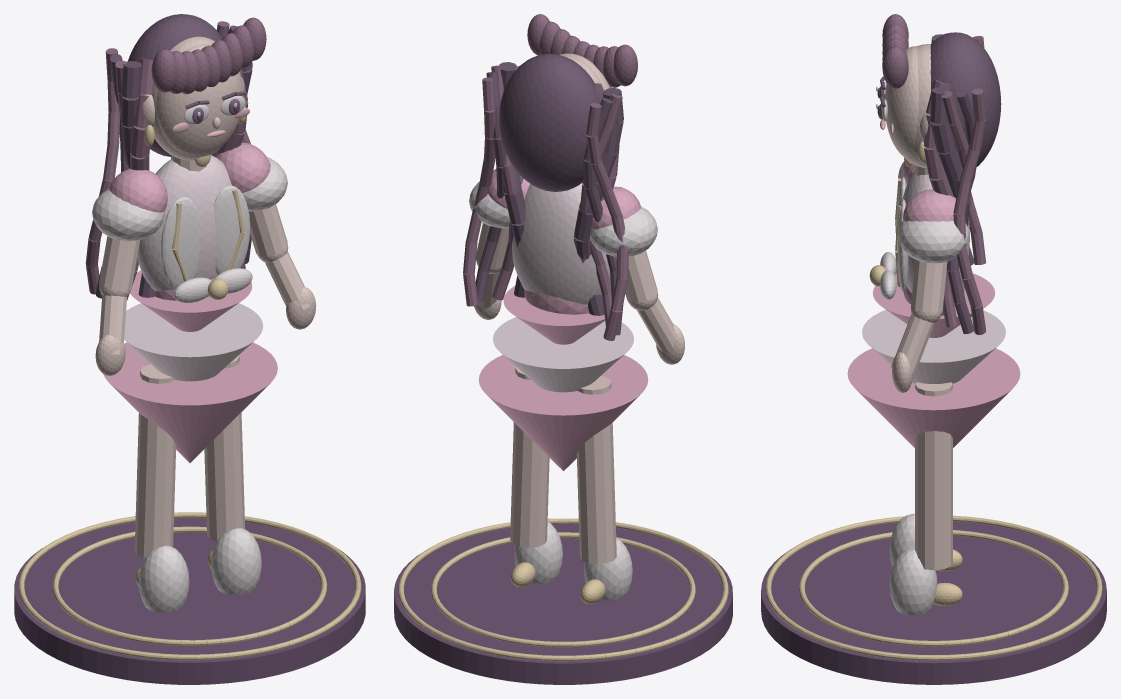
Rendered from songqi_anime_3d 2.glb.
The picture shows the model from 3 angles, left to right: view 1: azimuth 30°, elevation 25°; view 2: azimuth 150°, elevation 25°; view 3: azimuth 270°, elevation 25°; orthographic projection. The views are drawn at different scales.
Visible parts, largest first — view 1: stage, skirt0, skirt1, leg, torso, leg_1, face, shoe, shoe_1, corsetpanel, skirt2, sleeve (+17 smaller); view 2: stage, hairback, skirt0, torso, skirt1, leg, leg_1, skirt2, sleeve, shoe, shoe_1, upperarm (+9 smaller); view 3: stage, skirt0, leg_1, skirt1, hairback, sleeve_1, shoe_1, face, skirt2, upperarm_1, shoulder_1, head (+10 smaller).
Part boxes in pixels (x1=…): stage: x1=14, y1=518, x2=365, y2=684; skirt0: x1=103, y1=342, x2=277, y2=462; skirt1: x1=124, y1=303, x2=263, y2=381; leg: x1=134, y1=364, x2=176, y2=558; torso: x1=137, y1=155, x2=231, y2=291; leg_1: x1=204, y1=355, x2=245, y2=541; face: x1=156, y1=44, x2=243, y2=155; shoe: x1=139, y1=545, x2=189, y2=612; shoe_1: x1=211, y1=528, x2=261, y2=594; corsetpanel: x1=161, y1=197, x2=199, y2=288; skirt2: x1=130, y1=270, x2=252, y2=331; sleeve: x1=92, y1=189, x2=164, y2=241; stage: x1=394, y1=524, x2=732, y2=684; hairback: x1=499, y1=53, x2=600, y2=191; skirt0: x1=478, y1=355, x2=648, y2=470; torso: x1=512, y1=183, x2=610, y2=304; skirt1: x1=493, y1=317, x2=633, y2=392; leg: x1=576, y1=376, x2=616, y2=564; leg_1: x1=510, y1=367, x2=549, y2=547; skirt2: x1=503, y1=286, x2=604, y2=344; sleeve: x1=590, y1=206, x2=657, y2=256; shoe: x1=584, y1=538, x2=632, y2=600; shoe_1: x1=514, y1=522, x2=562, y2=583; upperarm: x1=625, y1=250, x2=657, y2=302; stage: x1=761, y1=521, x2=1106, y2=684; skirt0: x1=847, y1=348, x2=1020, y2=447; leg_1: x1=915, y1=382, x2=952, y2=570; skirt1: x1=862, y1=310, x2=1005, y2=383; hairback: x1=930, y1=32, x2=1001, y2=167; sleeve_1: x1=898, y1=221, x2=969, y2=263; shoe_1: x1=889, y1=548, x2=937, y2=615; face: x1=884, y1=46, x2=918, y2=157; skirt2: x1=872, y1=273, x2=995, y2=337; upperarm_1: x1=911, y1=259, x2=947, y2=312; shoulder_1: x1=903, y1=189, x2=955, y2=221; head: x1=902, y1=44, x2=930, y2=167.
Bounding box in the file's own units: 1.44 × 2.69 × 1.44.
